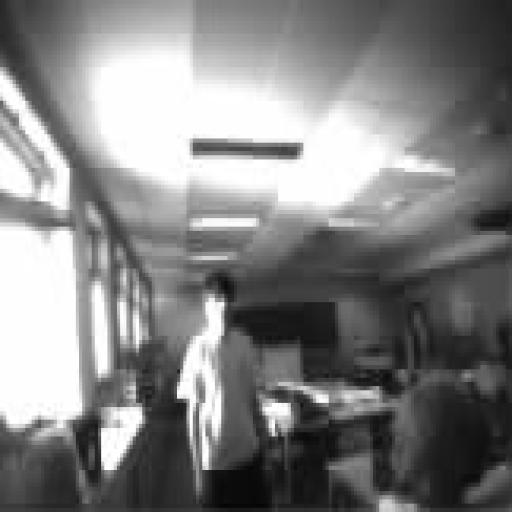human: (177, 273, 268, 507), (380, 374, 489, 511)
